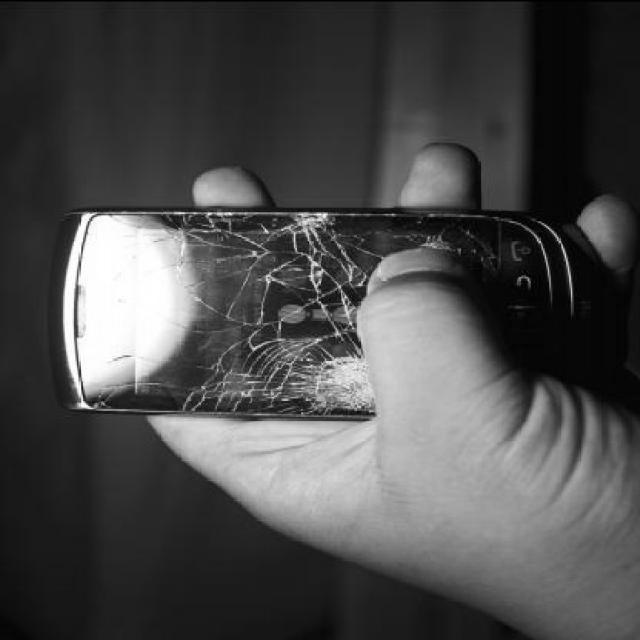fake: (44, 188, 494, 432)
